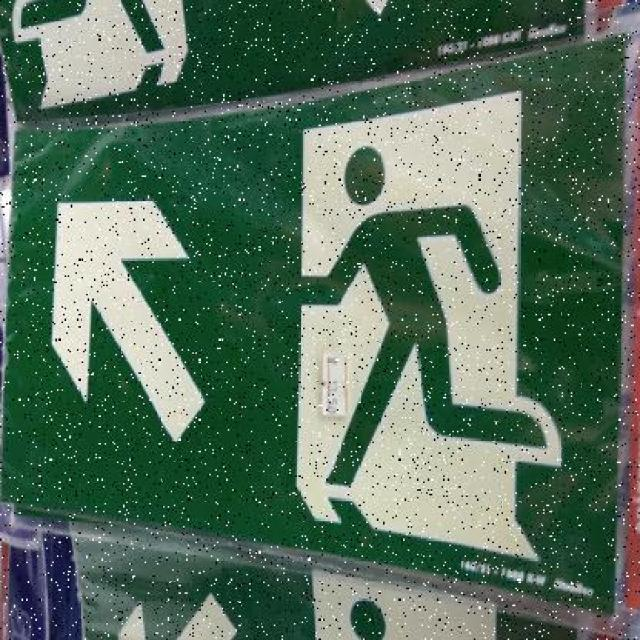emergency_exit: (1, 2, 636, 637)
